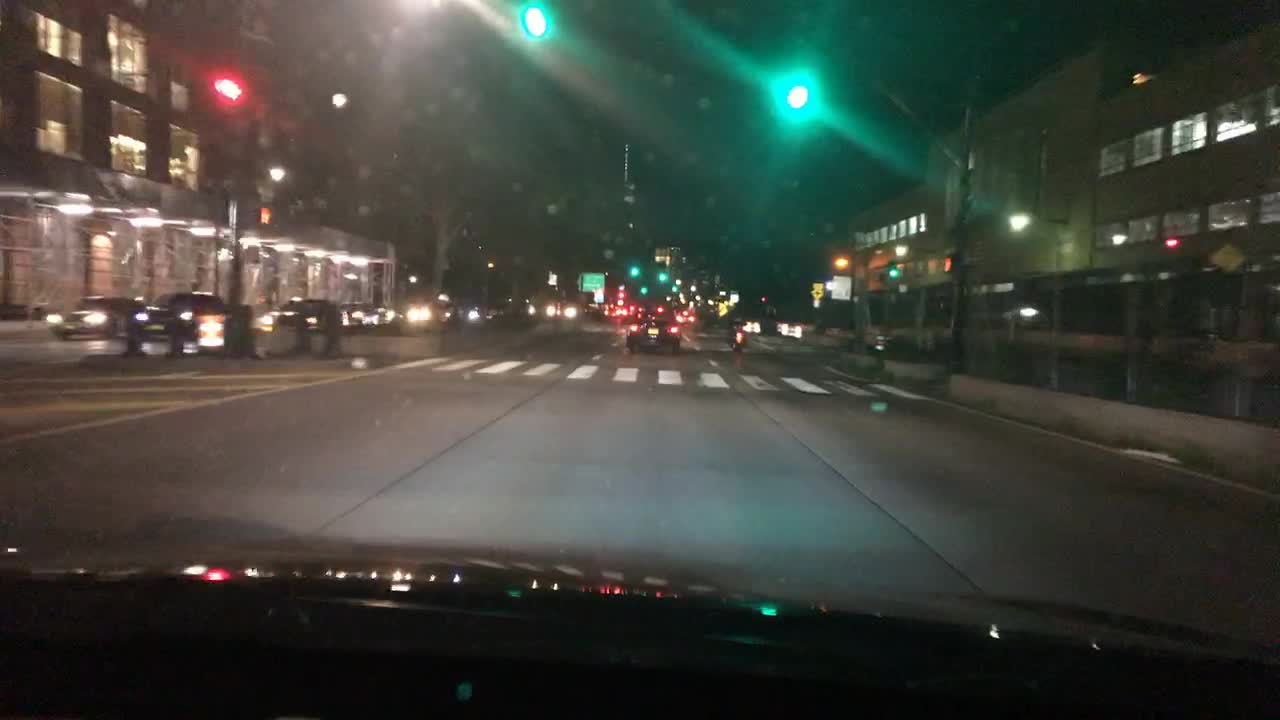car: (129, 289, 254, 354), (48, 293, 151, 338), (252, 294, 346, 328), (626, 308, 683, 353), (345, 301, 405, 325), (486, 296, 537, 323), (439, 301, 488, 327), (400, 301, 447, 326), (543, 298, 583, 321), (337, 298, 362, 321), (779, 321, 804, 339), (675, 308, 698, 324), (744, 316, 765, 332), (600, 308, 614, 320), (615, 308, 630, 318)
motor: (729, 327, 747, 355)
rider: (729, 316, 745, 342)
traffic light: (521, 5, 556, 45), (787, 81, 814, 111), (255, 207, 275, 228), (887, 263, 906, 281), (941, 255, 957, 275), (1166, 236, 1182, 254), (833, 252, 846, 271), (628, 265, 641, 277), (616, 287, 628, 299), (759, 293, 771, 302), (658, 271, 667, 280)
traffic sign: (1210, 243, 1245, 275), (831, 275, 853, 303), (577, 272, 605, 293), (810, 281, 826, 303)
